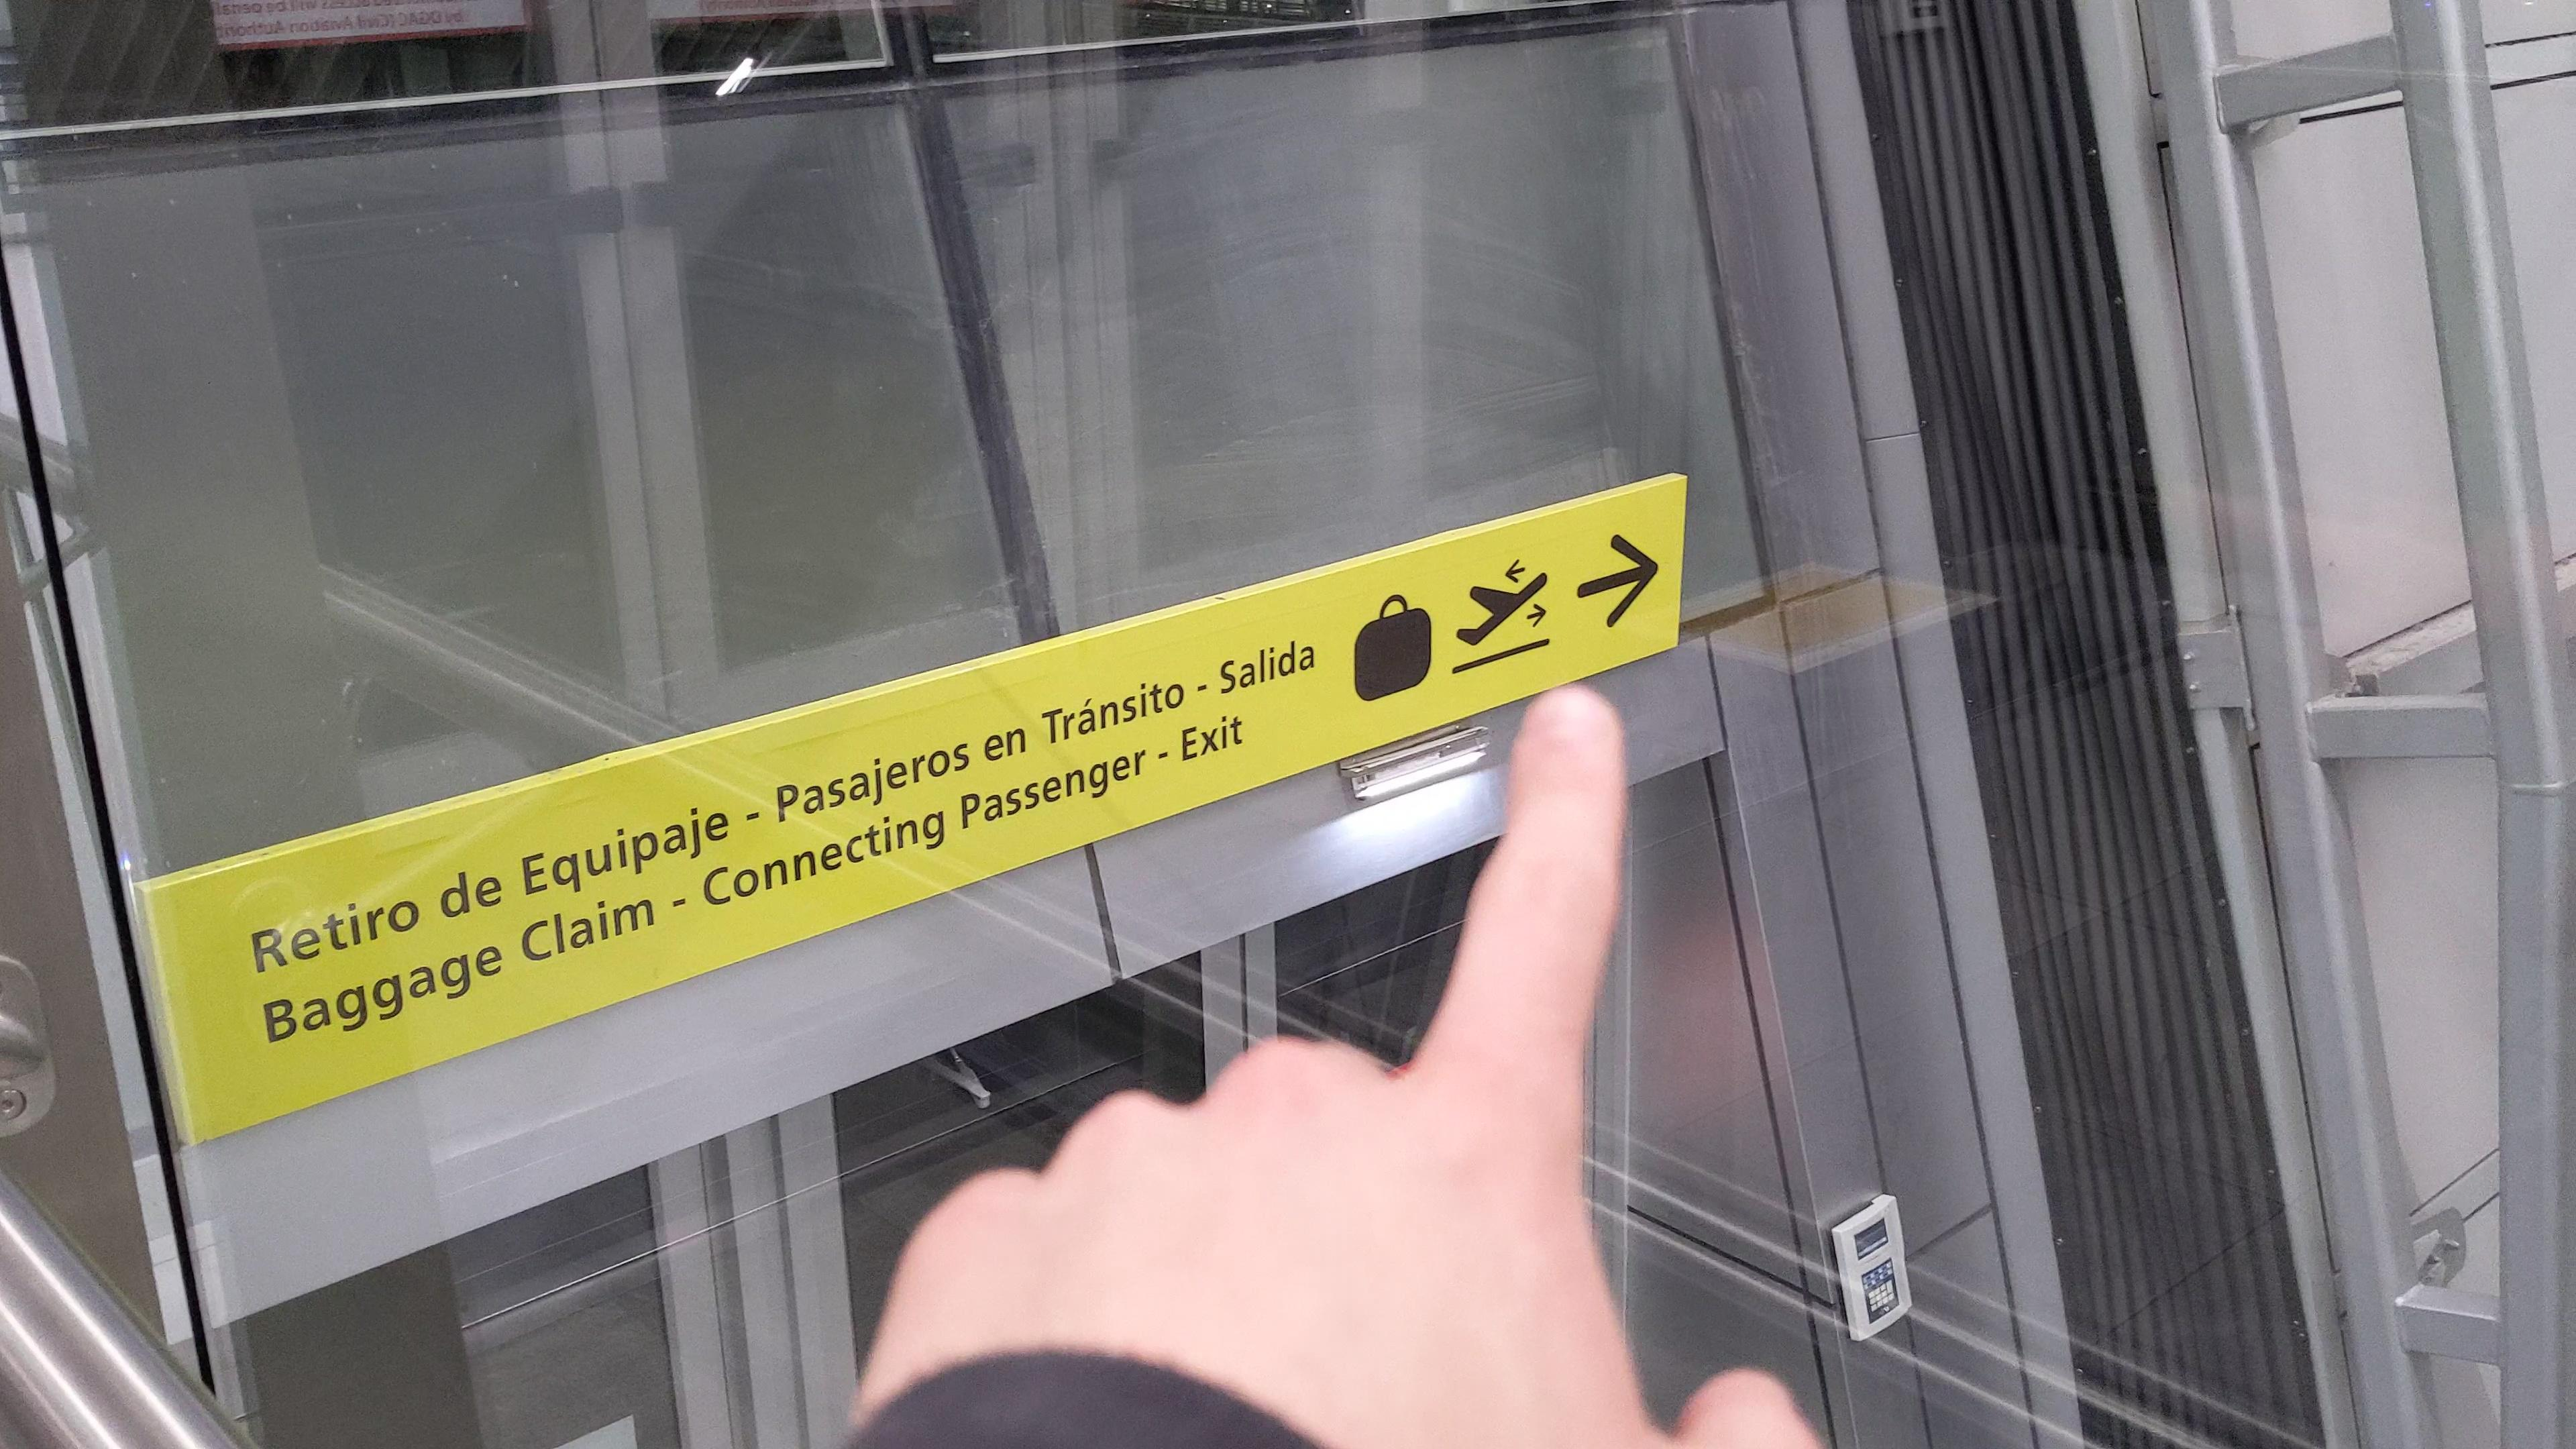airplane symbol: (1451, 552, 1552, 655)
baggage claim: (1350, 591, 1435, 704)
thin right arrow: (1573, 529, 1661, 630)
